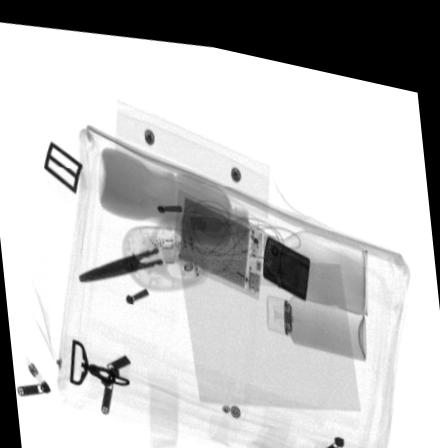Lighter: (262, 225, 311, 286)
Powerbank: (171, 179, 268, 289)
Scissors: (79, 191, 210, 279)
Sprayer: (266, 276, 368, 344)
